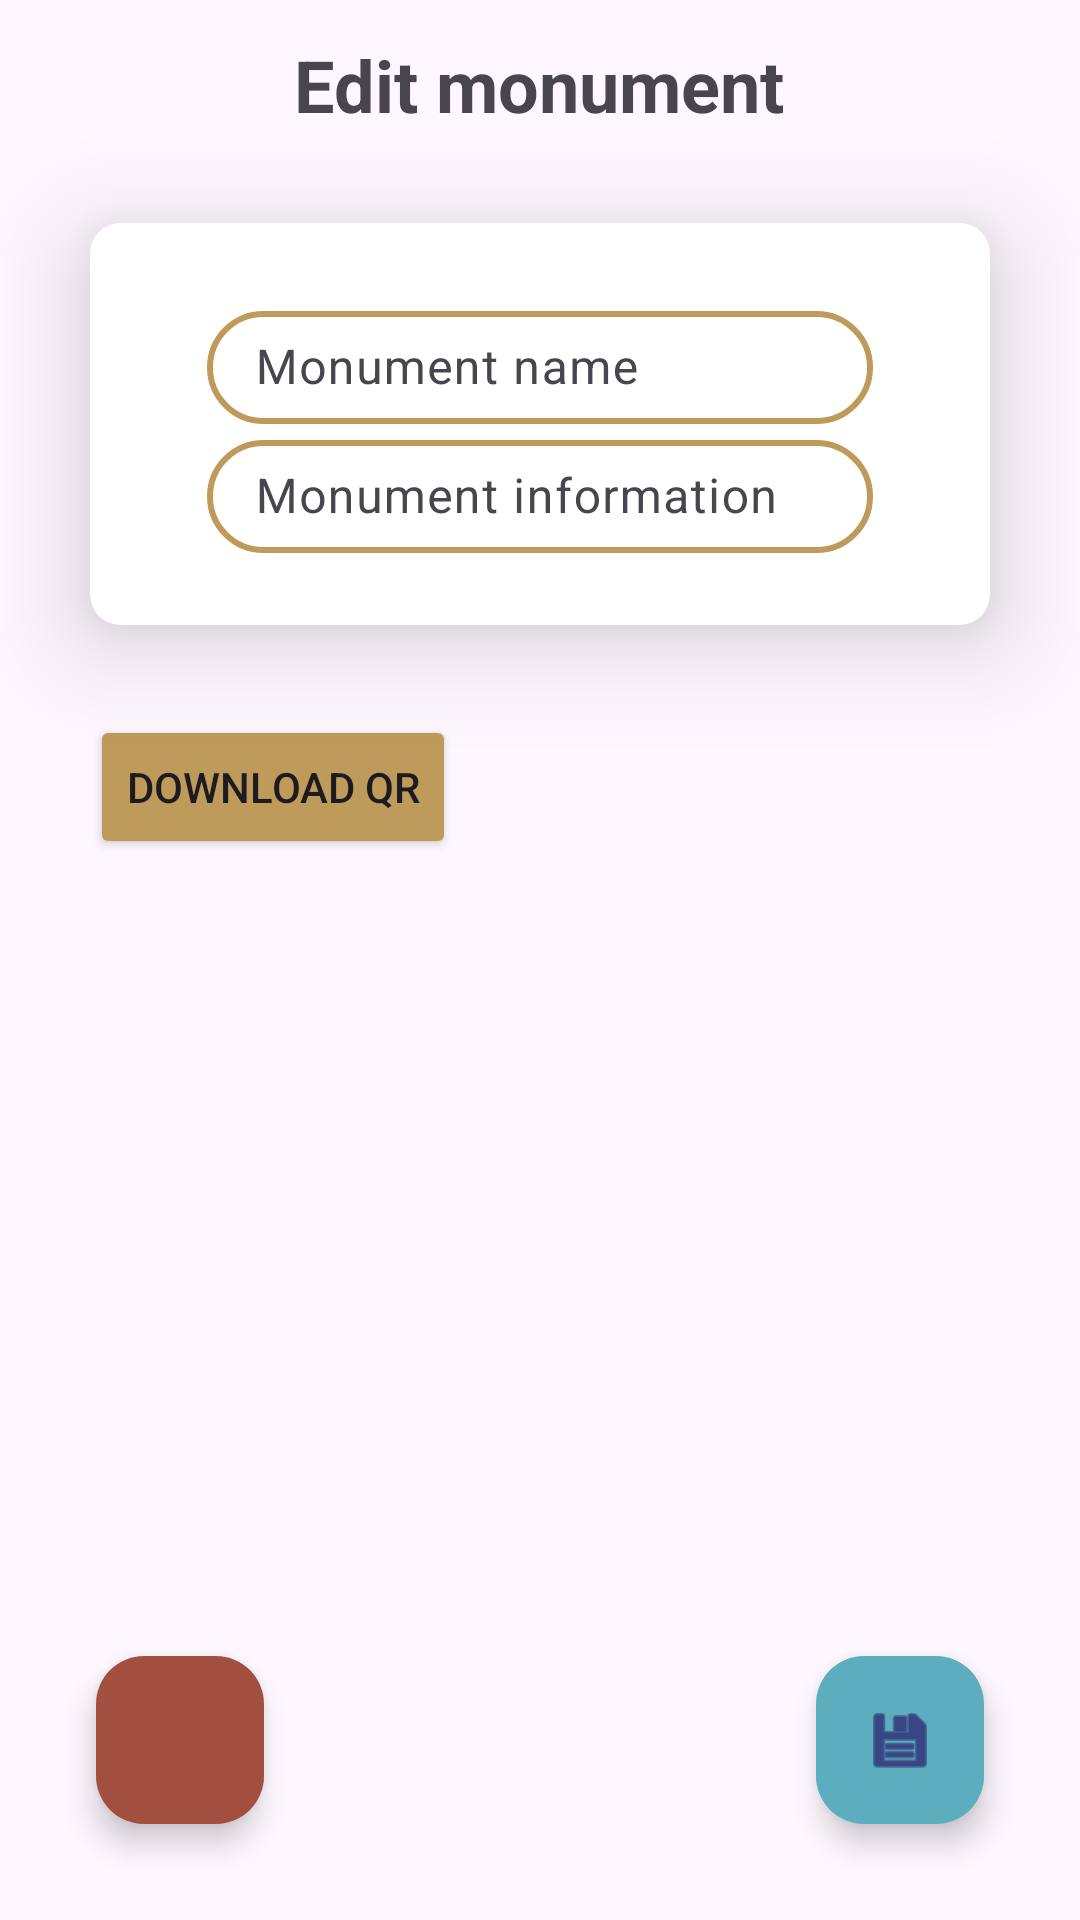

Icons on this 1080 x 1920 Android screen, each with the point to tap as (x=x, y=y):
save: (x=900, y=1740)
